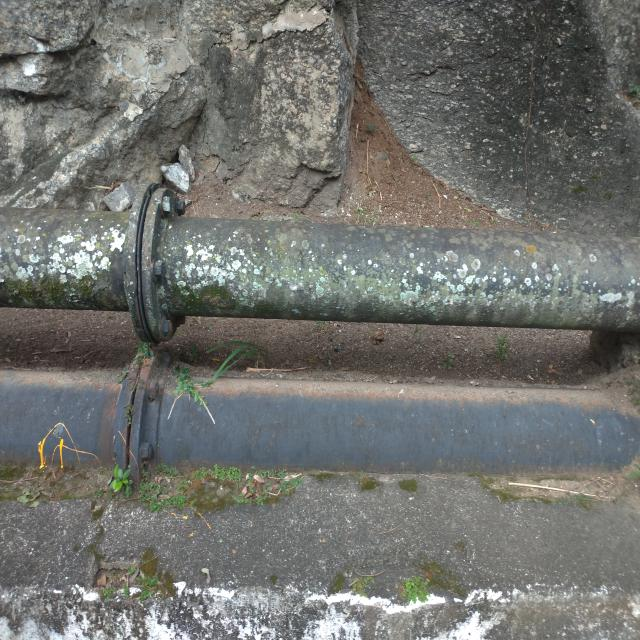gas: (1, 205, 638, 333), (3, 368, 626, 484)
